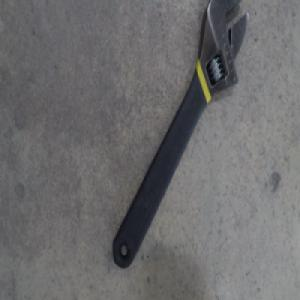AdjustableWrench: (112, 5, 246, 267)
